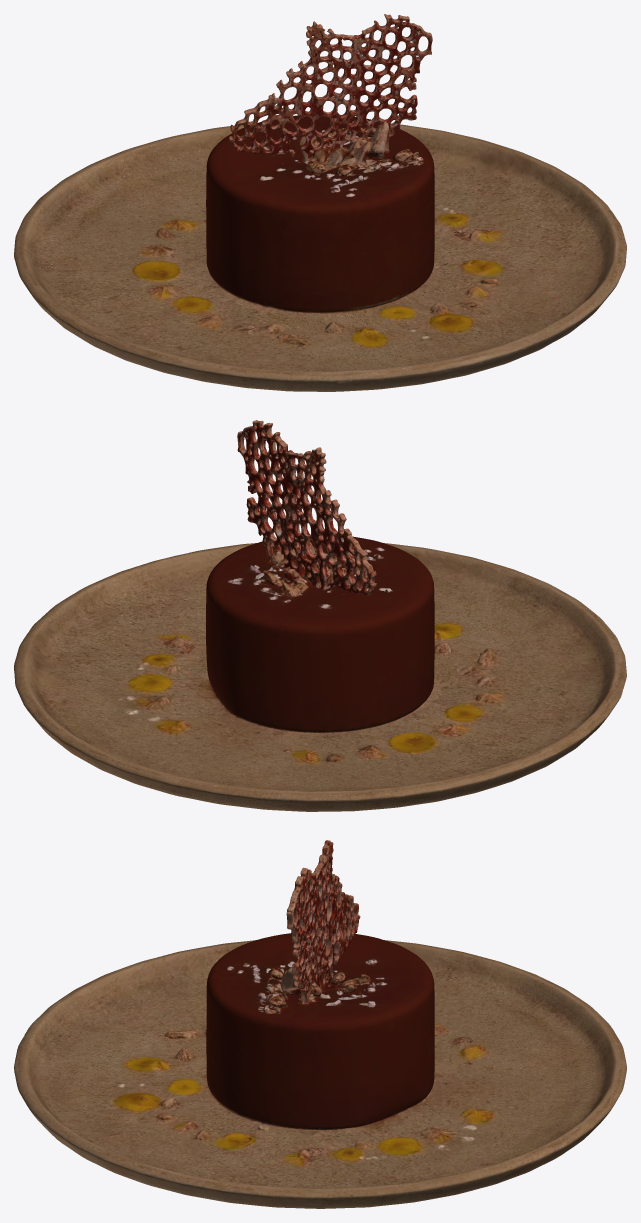
The model's file is chocolat-fume-mobile.glb.
3 renders of one model, top to bottom at view 1: azimuth 30°, elevation 25°; view 2: azimuth 150°, elevation 25°; view 3: azimuth 270°, elevation 25°, orthographic.
Size of the model in its own units: 1.9 by 0.8773 by 1.9.
Materials: 1 (1 with a texture image).
